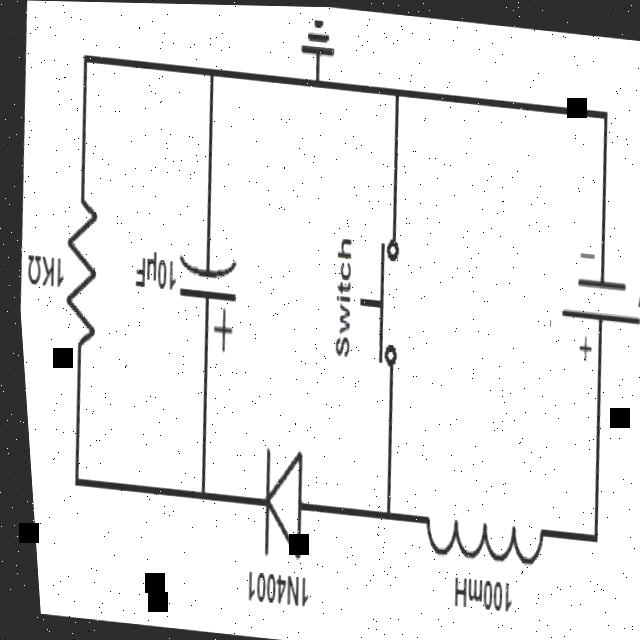capacitor: (164, 224, 246, 348)
diode: (230, 417, 318, 567)
ground: (294, 7, 344, 71)
inductor: (397, 474, 556, 585)
resistor: (46, 165, 121, 371)
source: (538, 220, 640, 348)
switch: (342, 217, 415, 388)
